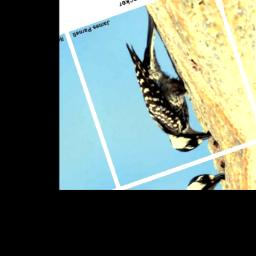Woodpecker: (115, 5, 217, 162)
